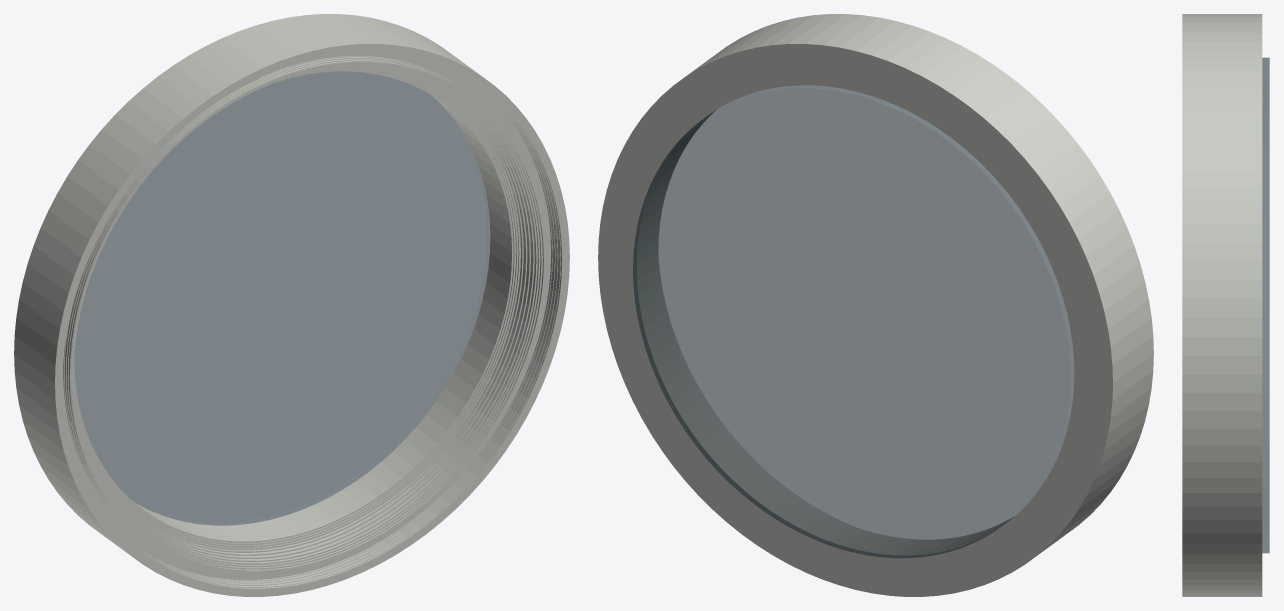
The model's file is republicano_circle.glb.
3 renders of one model, left to right at view 1: azimuth 30°, elevation 25°; view 2: azimuth 150°, elevation 25°; view 3: azimuth 270°, elevation 25°, orthographic.
Parts seen in each view (by area): view 1: window_glass#0001, window_reveal#0001, window_profile#0028, window_profile#0001, window_profile#0025, window_profile#0027, window_profile#0026, window_profile#0012, window_profile#0009, window_profile#0008, window_profile#0011, window_profile#0010 (+18 smaller); view 2: window_glass#0001, window_reveal#0001, window_profile#0028, window_profile#0001; view 3: window_profile#0028, window_reveal#0001, window_glass#0001.
Boxes of the visible parts, left/top/right/bottom form: window_glass#0001: left=74, top=71, right=490, bottom=525; window_reveal#0001: left=14, top=14, right=507, bottom=537; window_profile#0028: left=29, top=25, right=569, bottom=596; window_profile#0001: left=74, top=70, right=513, bottom=543; window_profile#0025: left=60, top=50, right=563, bottom=590; window_profile#0027: left=57, top=46, right=567, bottom=594; window_profile#0026: left=58, top=48, right=565, bottom=592; window_profile#0012: left=70, top=62, right=545, bottom=572; window_profile#0009: left=73, top=66, right=537, bottom=564; window_profile#0008: left=78, top=66, right=534, bottom=562; window_profile#0011: left=72, top=64, right=542, bottom=569; window_profile#0010: left=72, top=65, right=540, bottom=567; window_glass#0001: left=633, top=85, right=1074, bottom=558; window_reveal#0001: left=598, top=31, right=1129, bottom=596; window_profile#0028: left=702, top=14, right=1153, bottom=543; window_profile#0001: left=652, top=110, right=1012, bottom=544; window_profile#0028: left=1182, top=14, right=1233, bottom=596; window_reveal#0001: left=1229, top=14, right=1262, bottom=596; window_glass#0001: left=1262, top=57, right=1269, bottom=553.
Bounding box in the file's own units: 1.6 × 1.6 × 0.24.
